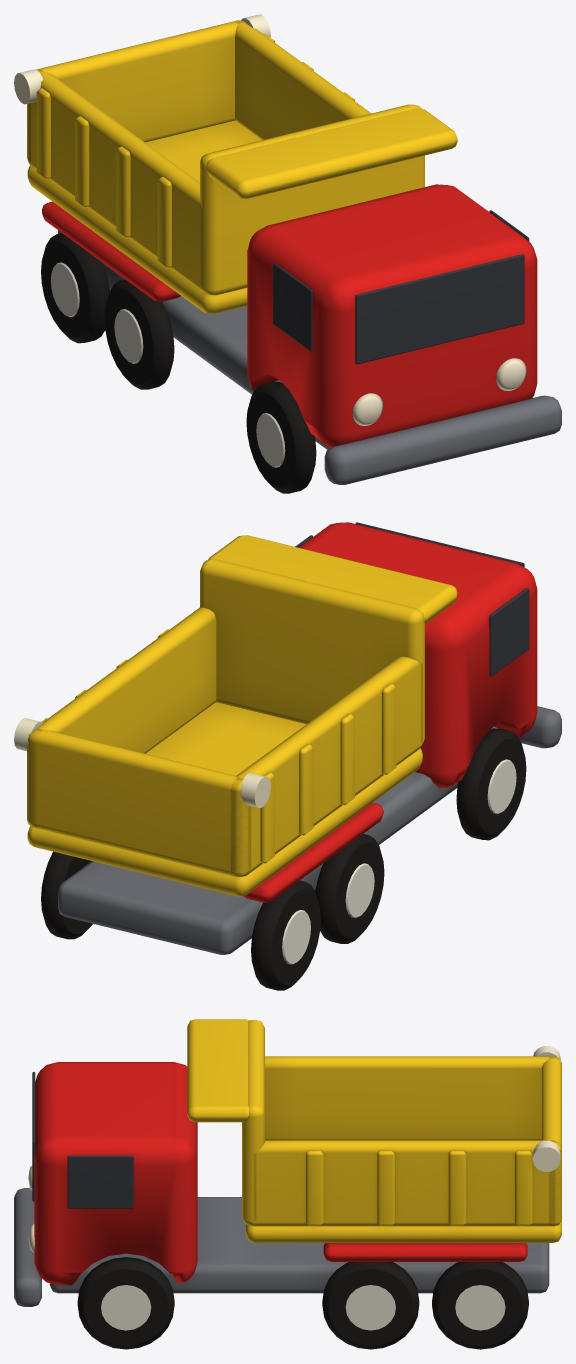
The model's file is dump-truck.fbx.
3 renders of one model, top to bottom at view 1: azimuth 30°, elevation 25°; view 2: azimuth 150°, elevation 25°; view 3: azimuth 270°, elevation 25°, orthographic. The views are drawn at different scales.
Parts seen in each view (by area): view 1: dump-truck; view 2: dump-truck; view 3: dump-truck.
Part boxes in pixels (x1,y1,x2,y2): dump-truck: [14, 14, 561, 493]; dump-truck: [14, 522, 561, 990]; dump-truck: [14, 1019, 561, 1349].
Bounding box in the file's own units: 962 × 1064 × 2200.
1 material, 1 textured.
